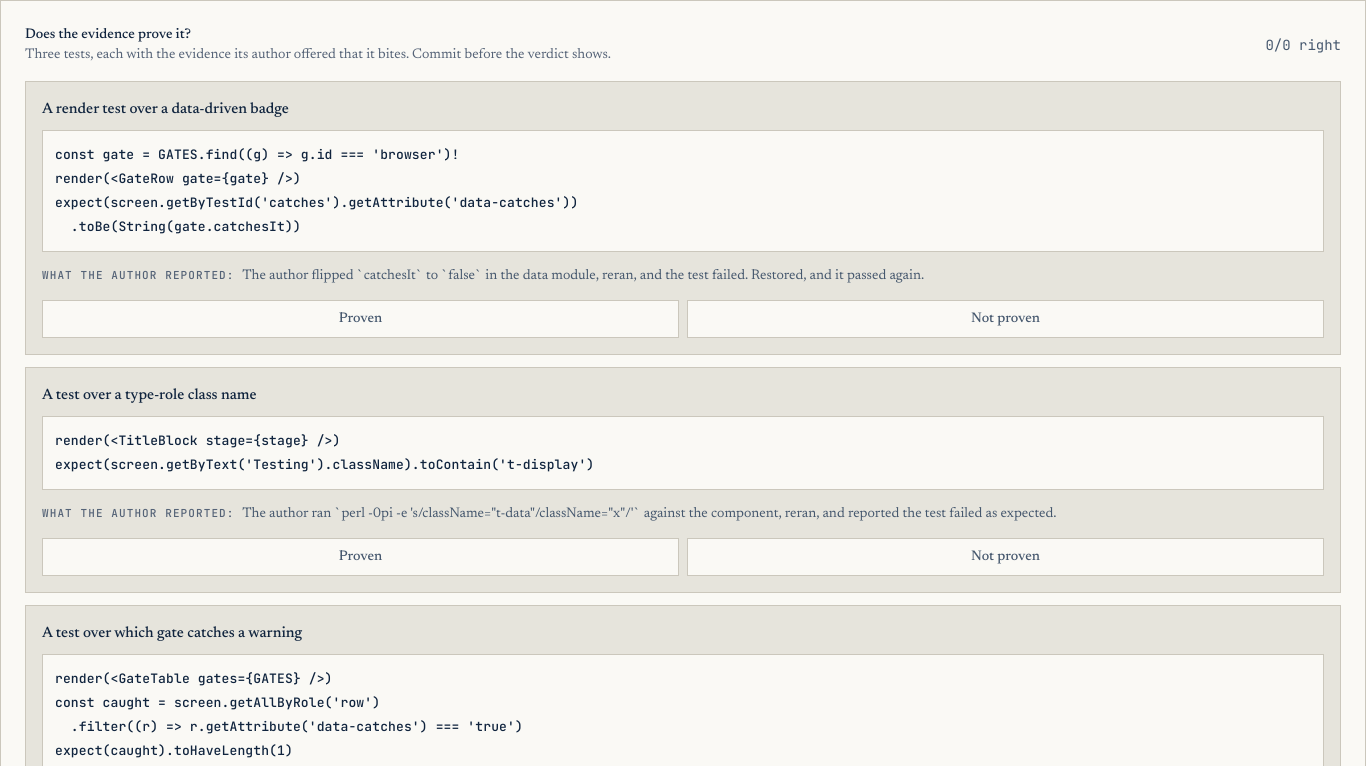
Test: the verdict is hidden until the reader commits
This screenshot has width=1366, height=766.
Click the 1st radio button labelled "Not proven": (1006, 319) [687,300,1324,338]
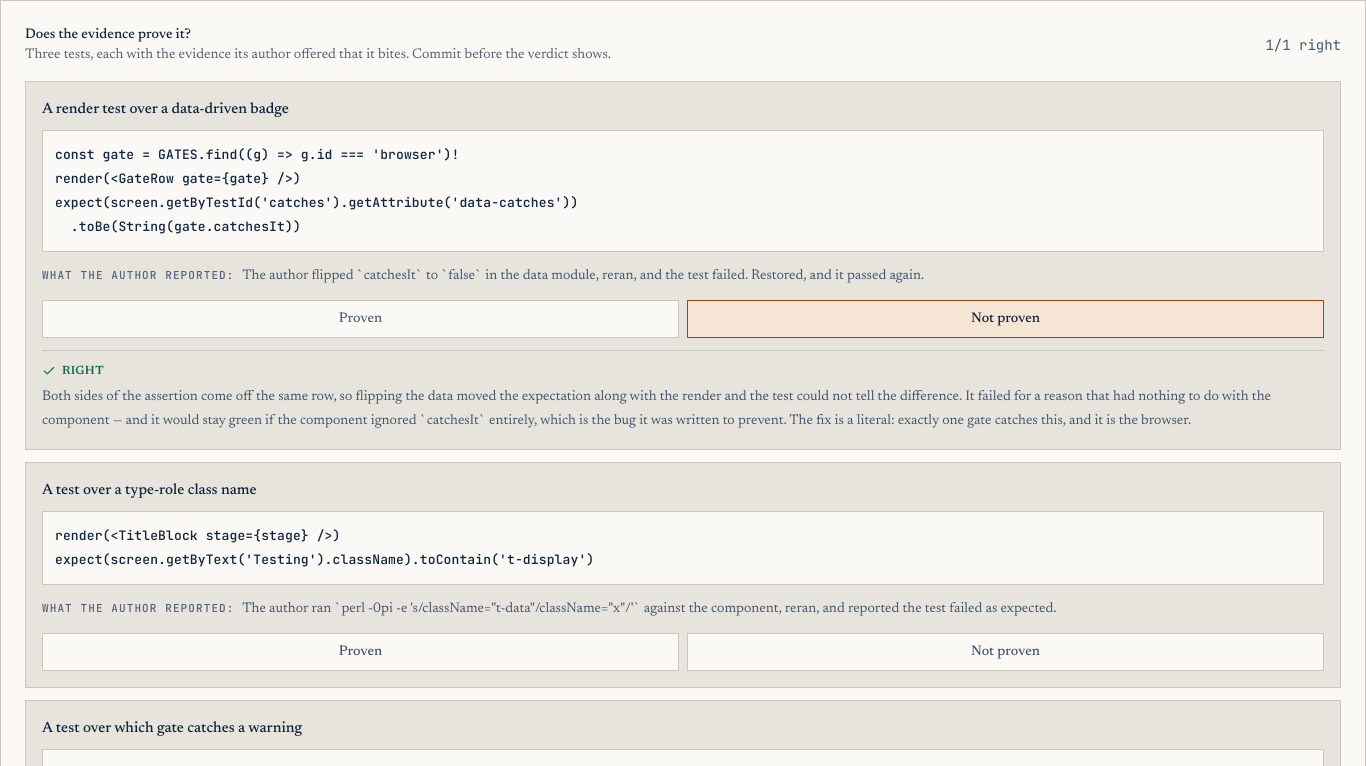
Now the text "exactly one gate catches this, and it is the browser" is shown, box [42,390,1271,428]
